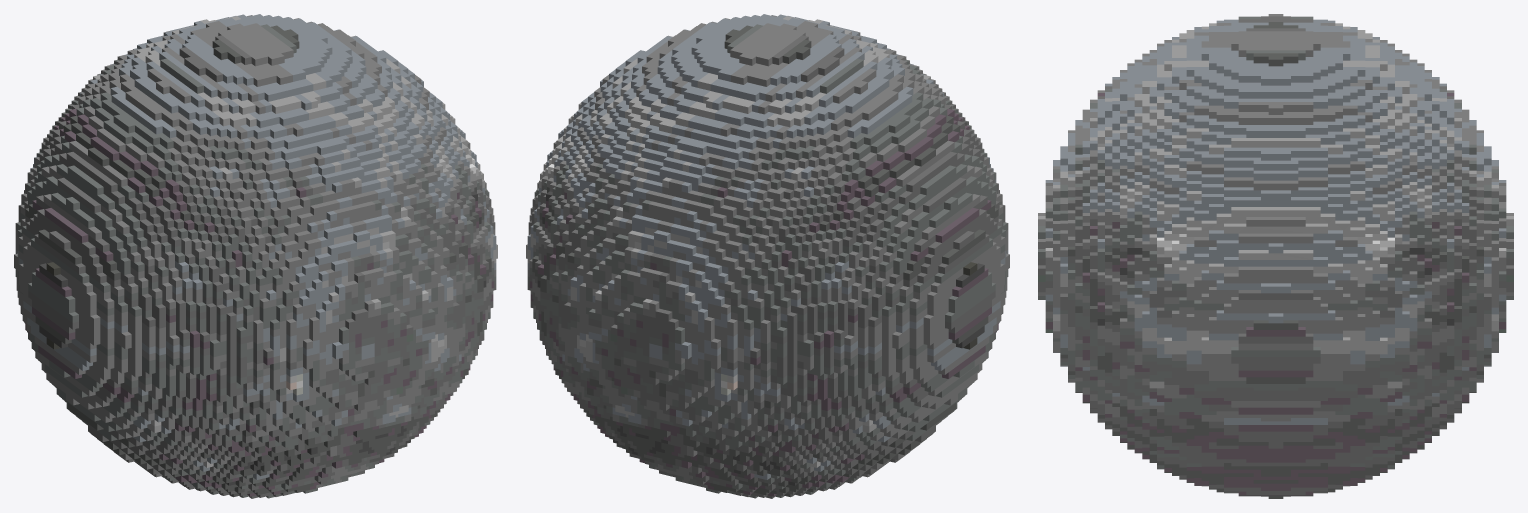
File: mercury.glb
3 renders of one model, left to right at view 1: azimuth 30°, elevation 25°; view 2: azimuth 150°, elevation 25°; view 3: azimuth 270°, elevation 25°, orthographic.
Parts seen in each view (by area): view 1: Voxel Mercury; view 2: Voxel Mercury; view 3: Voxel Mercury.
Part boxes in pixels (left/top/right/bottom): Voxel Mercury: left=14, top=14, right=497, bottom=498; Voxel Mercury: left=526, top=14, right=1009, bottom=498; Voxel Mercury: left=1038, top=14, right=1513, bottom=498.
Size of the model in its own units: 6.4 by 6.4 by 6.4.
1 material, 1 textured.
